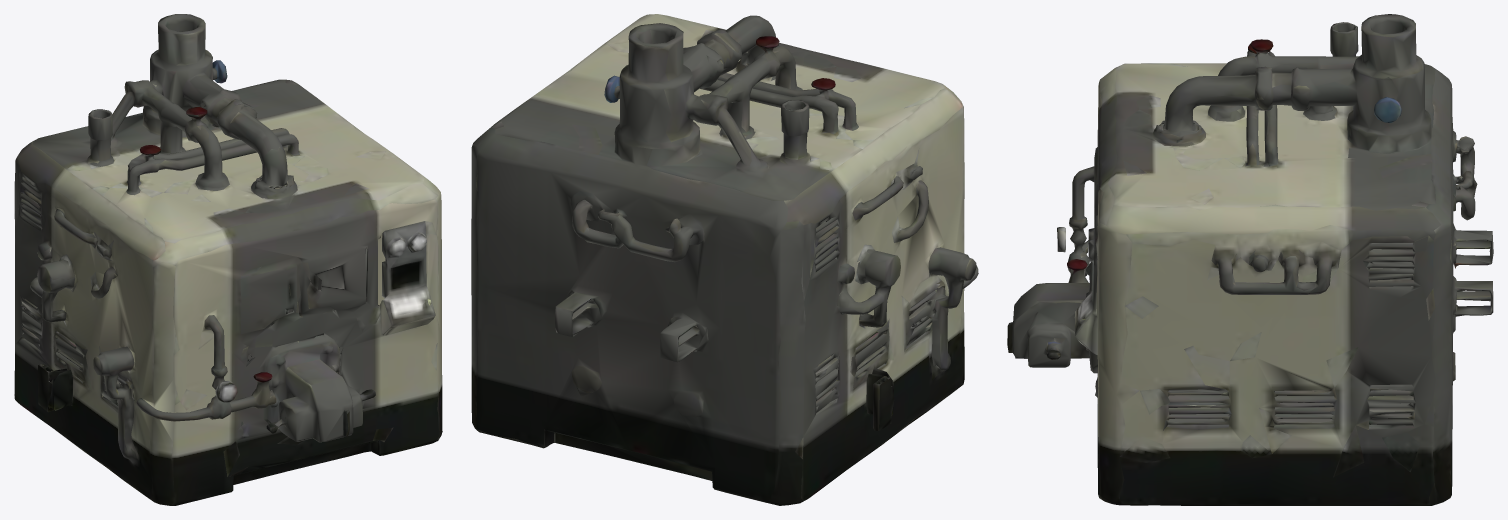
The model's file is boiler.glb.
3 views of the same model, side by side, from view 1: azimuth 30°, elevation 25°; view 2: azimuth 150°, elevation 25°; view 3: azimuth 270°, elevation 25° (orthographic). The views are drawn at different scales.
Visible parts, largest first — view 1: geometry_0; view 2: geometry_0; view 3: geometry_0.
Part boxes in pixels (x1,y1,x2,y2): geometry_0: [14, 14, 442, 505]; geometry_0: [471, 14, 978, 505]; geometry_0: [1007, 14, 1493, 505].
Size of the model in its own units: 0.9047 by 0.923 by 1.
1 material, 1 textured.
